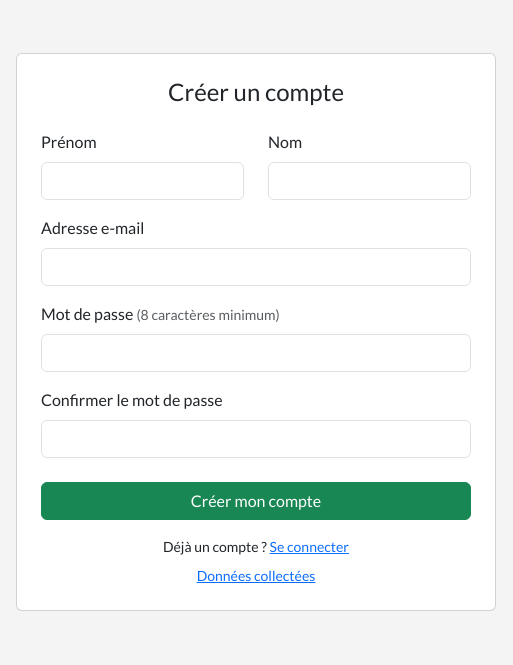
Test: surfaces a server error
This screenshot has width=513, height=665.
Type "Jane" into the field below "Prénom". click: (142, 181)
box: [41,162,244,200]
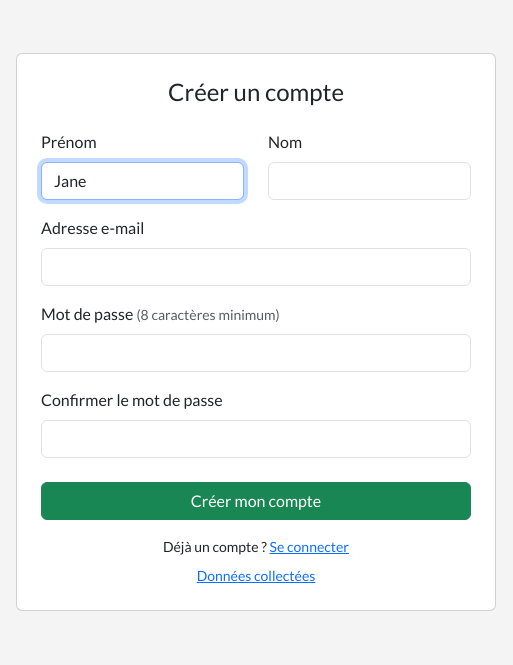
Type "Doe" into the 2nd field. click: (370, 181)
box: [268,162,471,200]
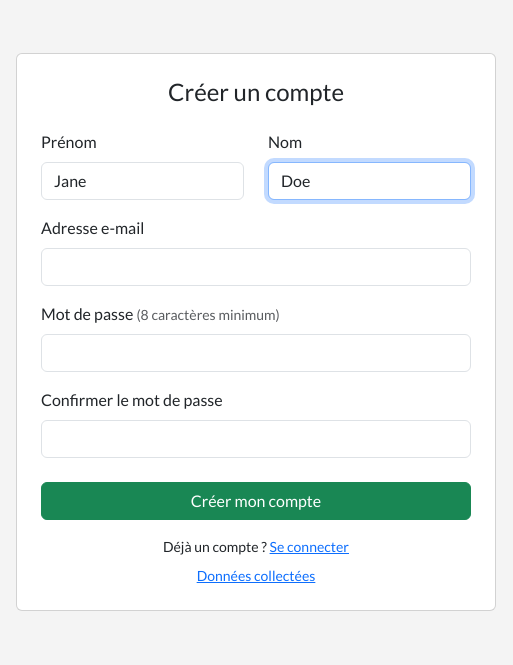
Type "a@b.com" into the field below "Adresse e-mail". click: (256, 267)
box: [41,248,471,286]
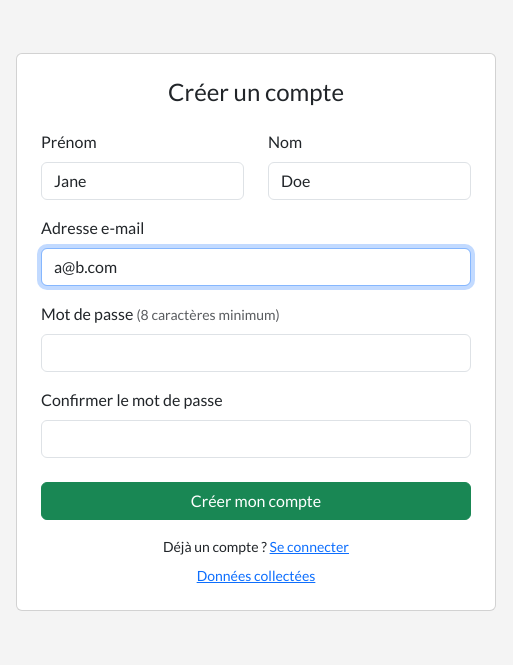
Type "password123" into the password field below "(8 caractères minimum)". click: (256, 353)
box: [41,334,471,372]
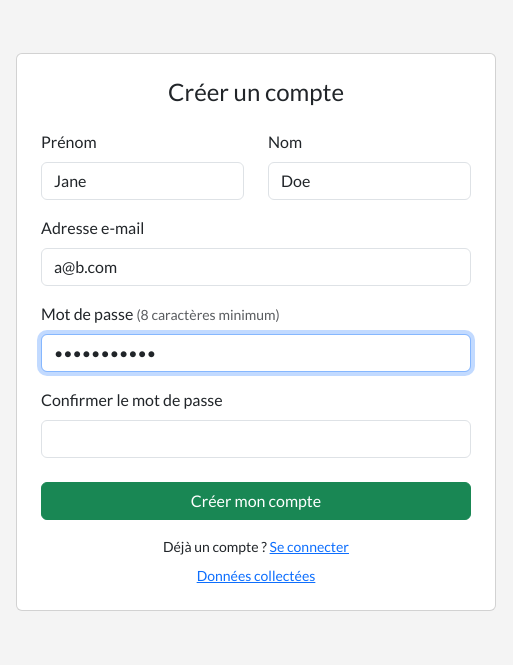
Type "password123" into the password field below "Confirmer le mot de passe". click: (256, 439)
box: [41,420,471,458]
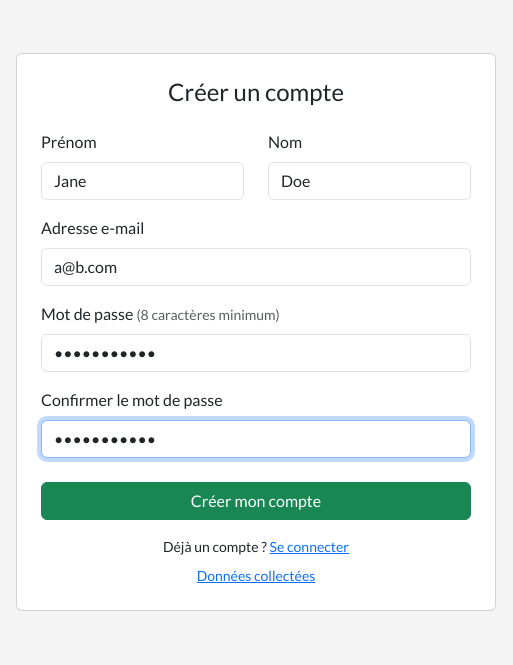
Click the button "Créer mon compte". click: (256, 501)
box: [41,482,471,520]
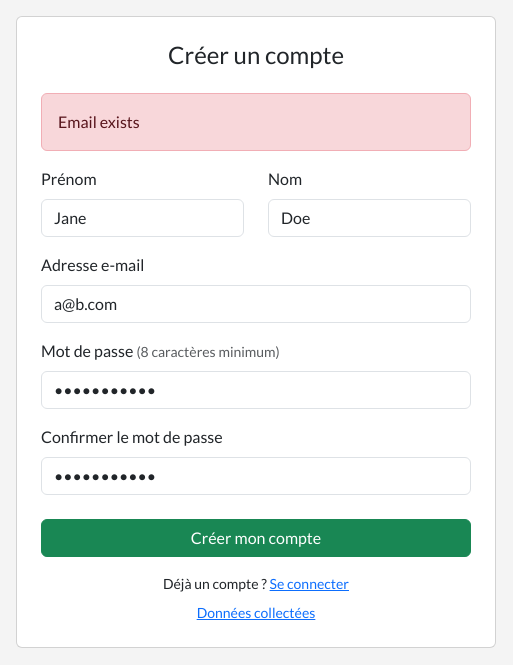
expect the text "Email exists" is shown: met, box [41,93,471,151]
